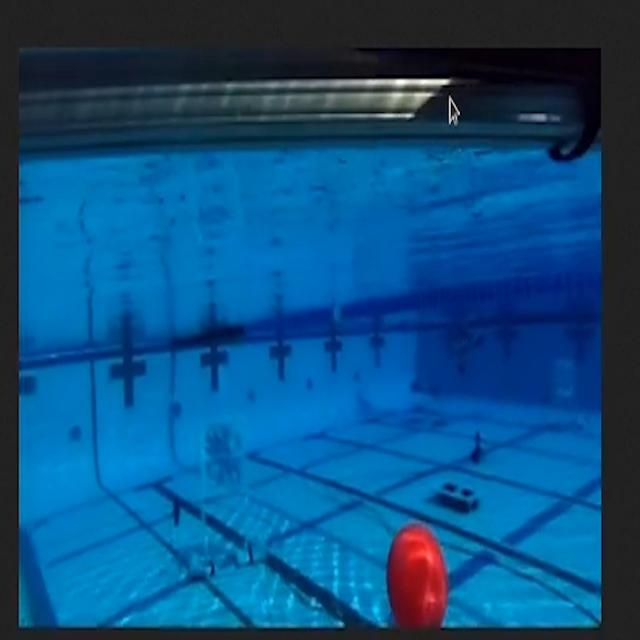Buoy: (384, 515, 453, 630)
